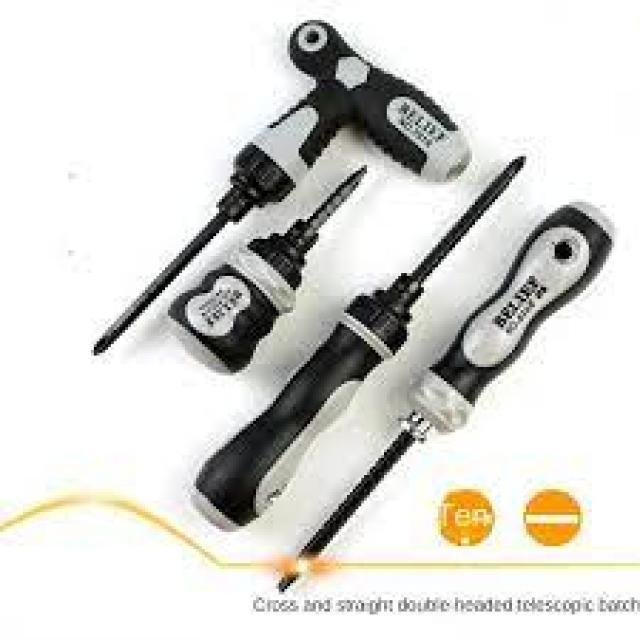screwdriver: (272, 198, 618, 596), (78, 17, 474, 364), (185, 151, 529, 535), (159, 162, 373, 384)
